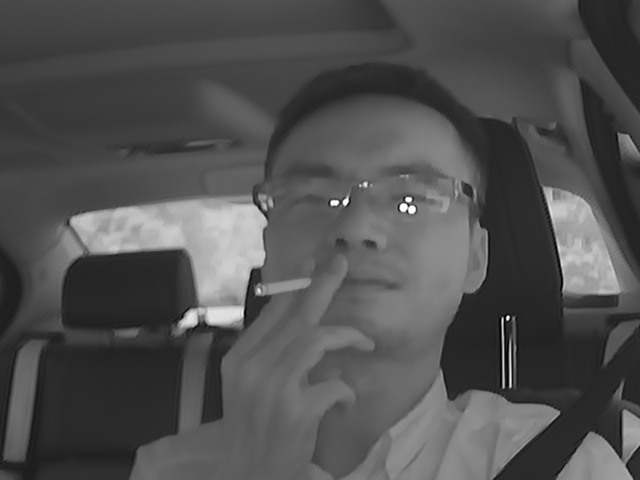hand: (231, 260, 371, 414)
